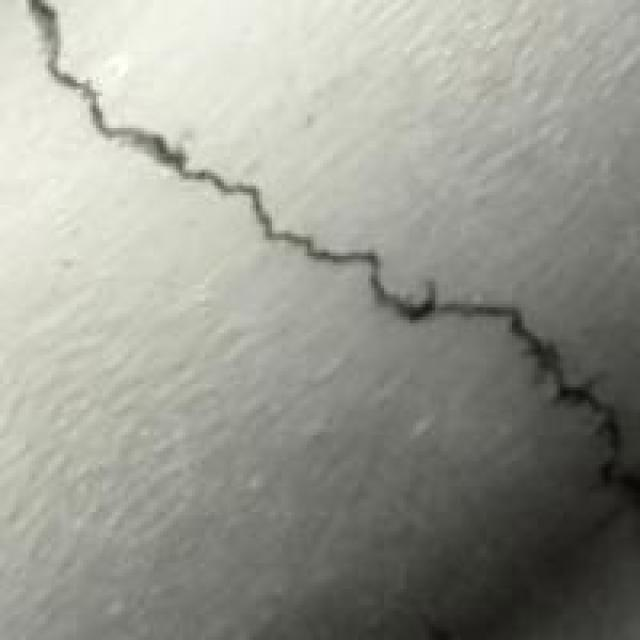crack: (24, 0, 640, 512)
